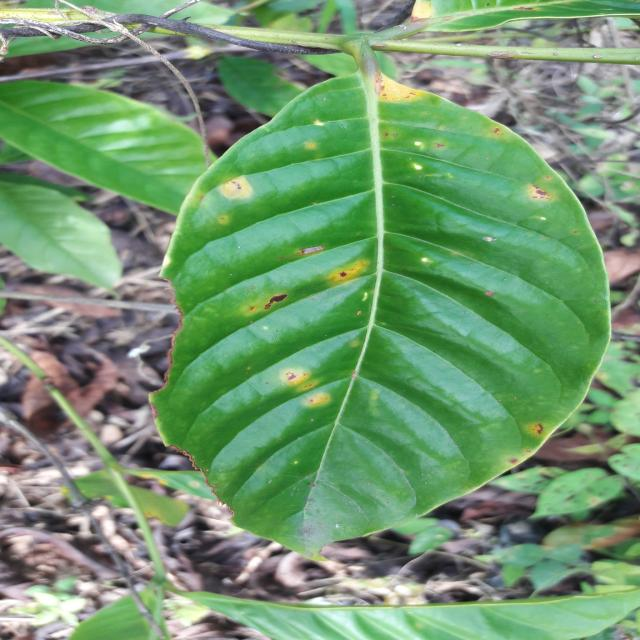Enfermedad-Roya: (151, 69, 604, 557)
